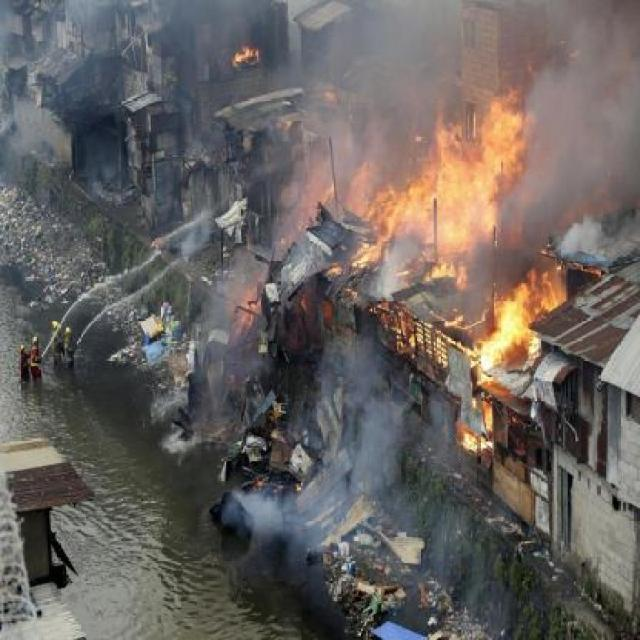Fire: (342, 71, 566, 454), (230, 44, 268, 76)
Smoke: (533, 18, 633, 234)
